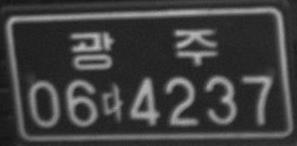0: (26, 77, 62, 130)
2: (164, 75, 201, 129)
3: (203, 74, 239, 127)
4: (128, 75, 162, 128)
6: (63, 76, 99, 129)
7: (239, 73, 275, 129)
광주_D: (68, 26, 221, 72)
다: (101, 80, 124, 125)
